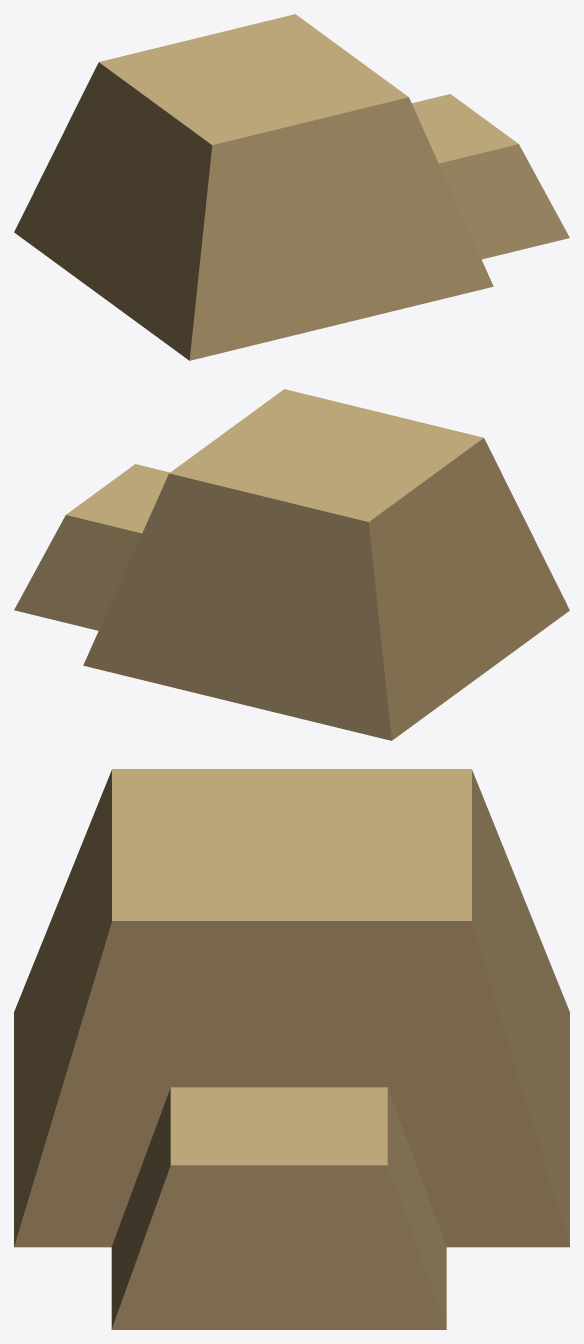
Rendered from SM_Env_Rock_Brown_03.fbx.
3 renders of one model, top to bottom at view 1: azimuth 30°, elevation 25°; view 2: azimuth 150°, elevation 25°; view 3: azimuth 270°, elevation 25°, orthographic. The views are drawn at different scales.
Parts seen in each view (by area): view 1: SM_Env_Rock_Brown_03; view 2: SM_Env_Rock_Brown_03; view 3: SM_Env_Rock_Brown_03.
Boxes of the visible parts, left/top/right/bottom form: SM_Env_Rock_Brown_03: left=14, top=14, right=569, bottom=360; SM_Env_Rock_Brown_03: left=14, top=389, right=569, bottom=740; SM_Env_Rock_Brown_03: left=14, top=769, right=569, bottom=1329.
Size of the model in its own units: 1.44 by 0.6003 by 1.06.
